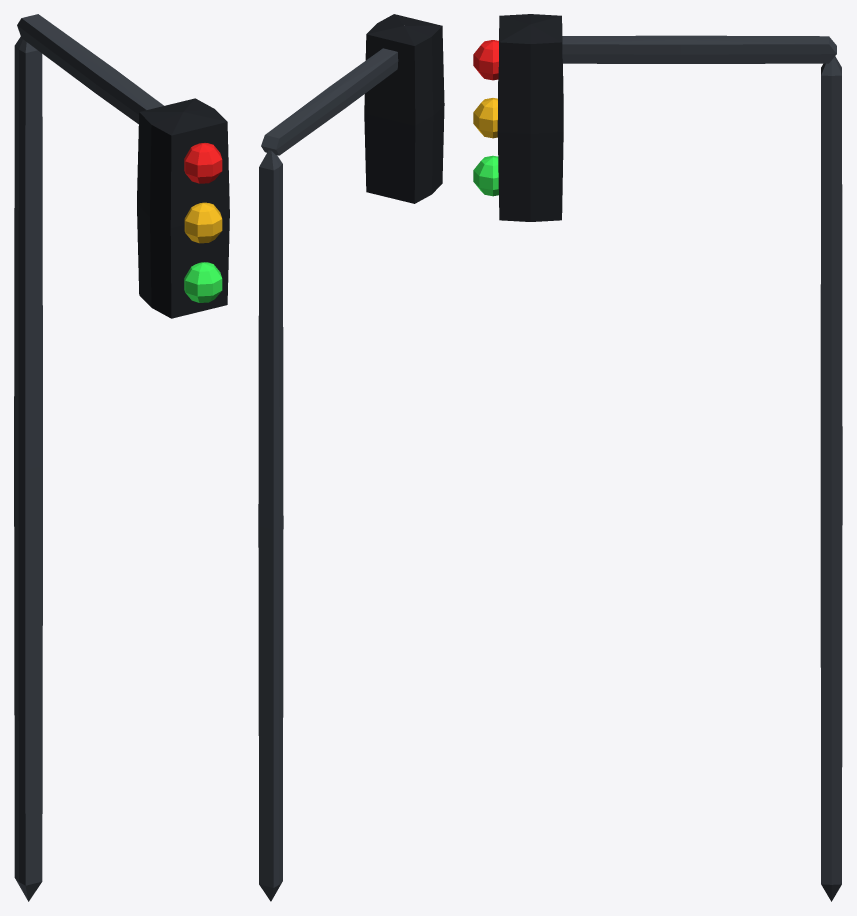
Rendered from s-trafficlight.glb.
The picture shows the model from 3 angles, left to right: view 1: azimuth 30°, elevation 25°; view 2: azimuth 150°, elevation 25°; view 3: azimuth 270°, elevation 25°; orthographic projection. The views are drawn at different scales.
Visible parts, largest first — view 1: p; view 2: p; view 3: p.
Boxes of the visible parts, left/top/right/bottom form: p: left=14, top=14, right=229, bottom=901; p: left=258, top=14, right=444, bottom=901; p: left=473, top=14, right=842, bottom=901.
Size of the model in its own units: 0.4 by 5.15 by 1.96.
